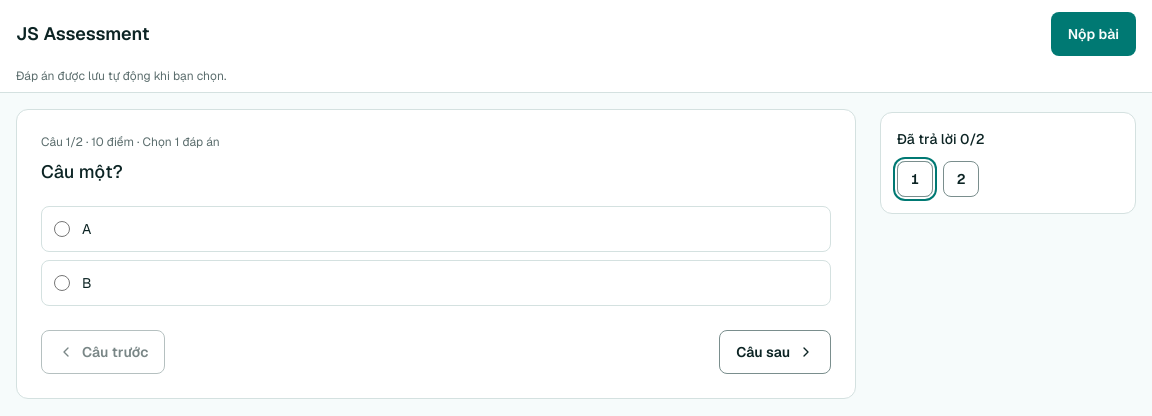
it: attempt runner › autosaves, marks the navigator and shows the server save time
Click the radio button labelled "A": (62, 229) [54,221,70,237]
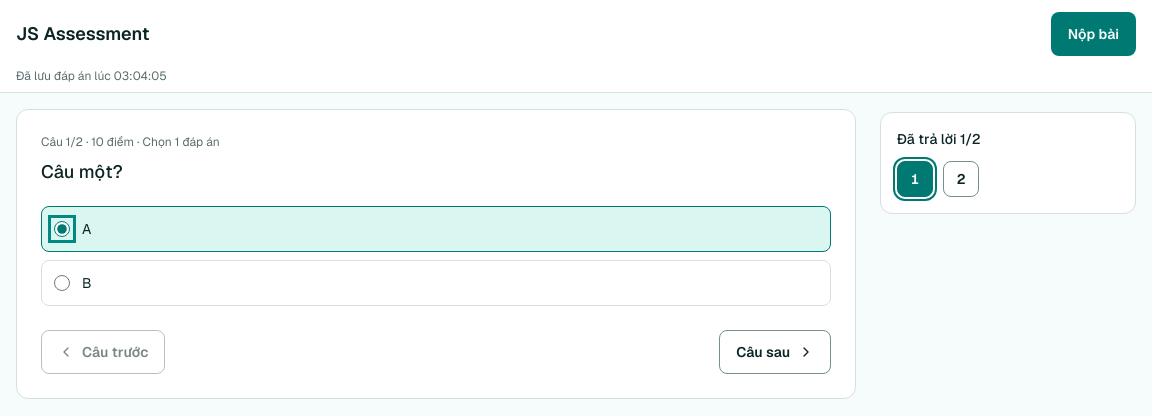
Check: the text with test id "autosave-status" reads "Đã lưu đáp án lúc 03:04:05", box [16,68,167,84]
// Jump with the grid: multiple choice uses checkboxes.
Click the button named "Câu 2": (961, 179) [943,161,979,197]
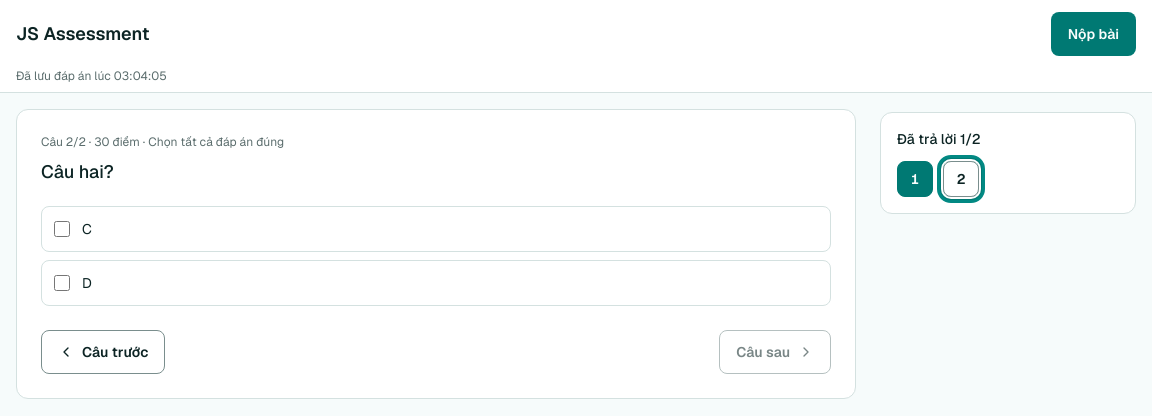
Check: the heading "Câu hai?" is shown, box [41,160,114,183]
Check: the number of checkboxes is 2, box [54,221,70,237]; [54,275,70,291]
